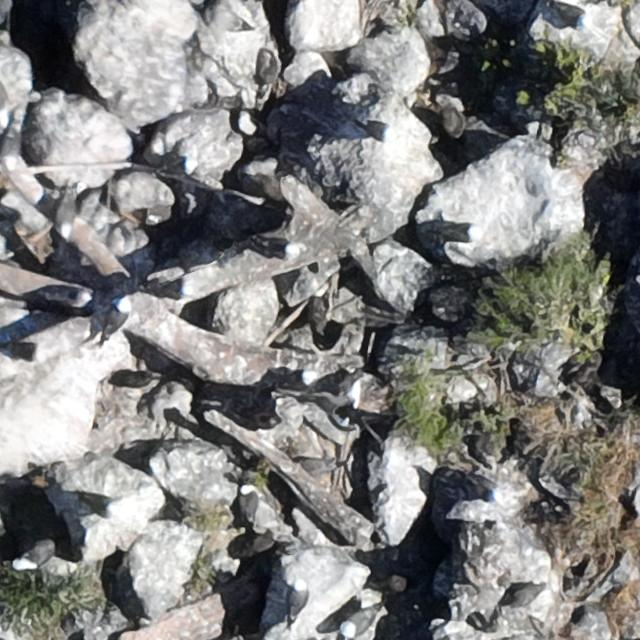umineko: (11, 540, 59, 573), (341, 604, 378, 638), (56, 188, 78, 240), (552, 3, 591, 28), (258, 237, 300, 259), (434, 222, 483, 240), (470, 483, 505, 505), (8, 344, 46, 361), (109, 302, 128, 334), (362, 121, 390, 139), (290, 583, 306, 613), (241, 487, 256, 511)
